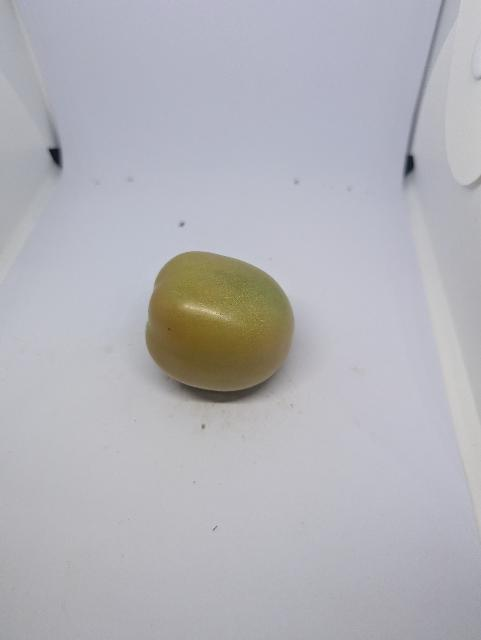breaker: (146, 251, 295, 391)
